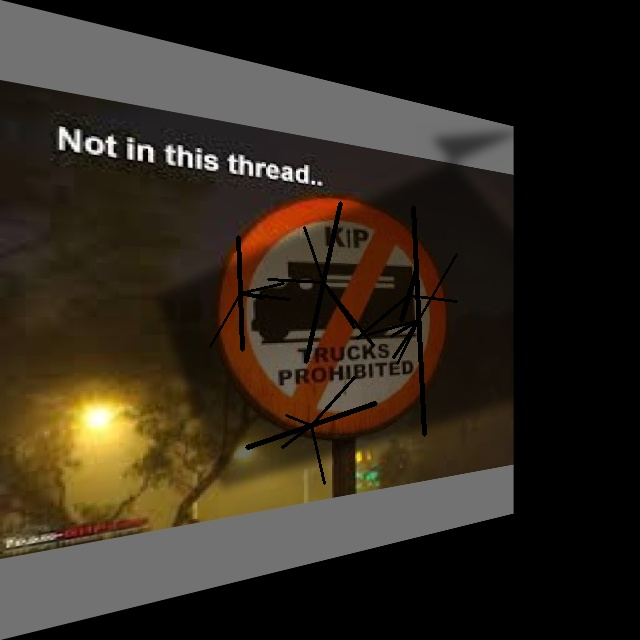Truck_Prohibited: (214, 182, 453, 455)
